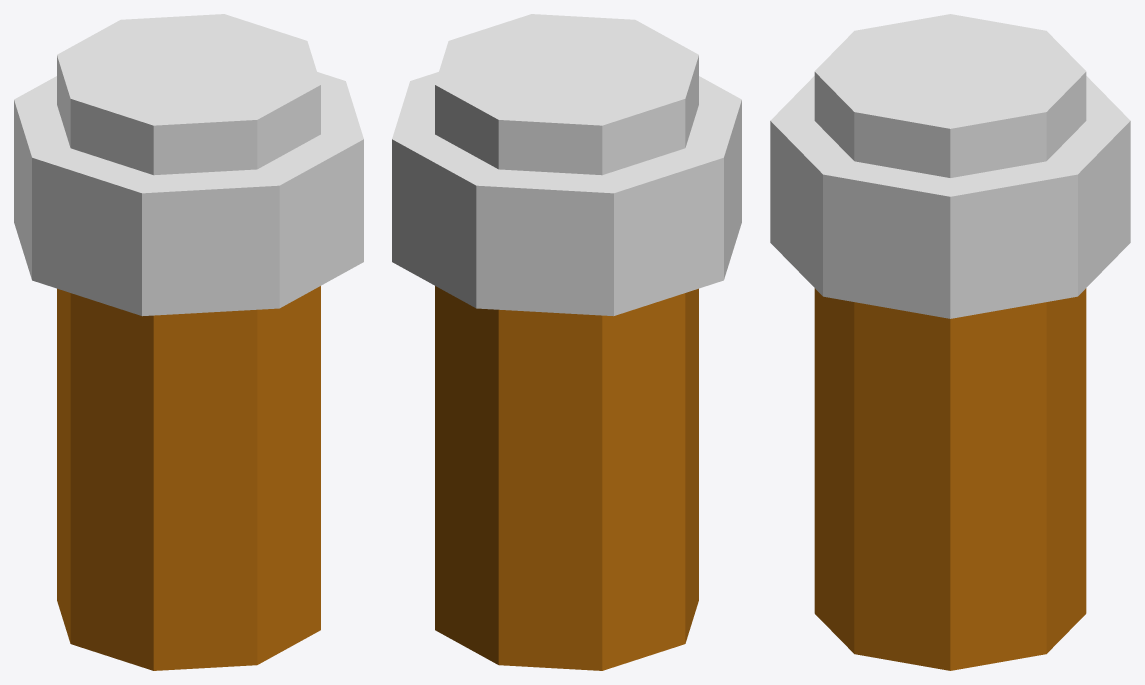
File: Happy_pills.fbx
3 renders of one model, left to right at view 1: azimuth 30°, elevation 25°; view 2: azimuth 150°, elevation 25°; view 3: azimuth 270°, elevation 25°, orthographic.
Parts seen in each view (by area): view 1: Cylinder; view 2: Cylinder; view 3: Cylinder.
Boxes of the visible parts, x1,y1,x2,y2 form: Cylinder: (14,14,363,670); Cylinder: (392,14,741,670); Cylinder: (770,14,1130,670).
Size of the model in its own units: 13.25 by 22 by 13.25.
